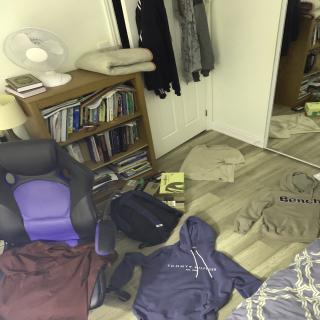Blue Hoodie: (121, 215, 228, 320)
Maroon T-Shirt: (0, 239, 116, 320)
Yellow Hoodie: (250, 172, 320, 244)
Yellow T-Shirt: (178, 140, 248, 187)
